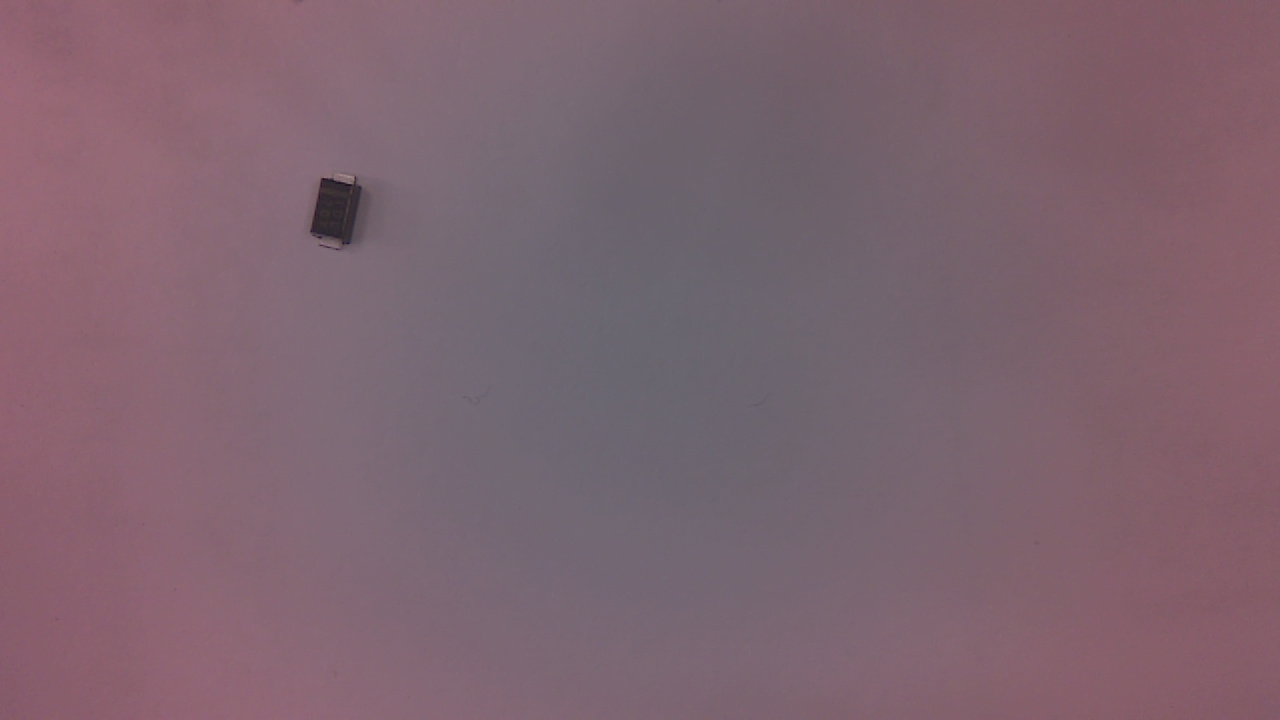Diode: (311, 175, 369, 257)
